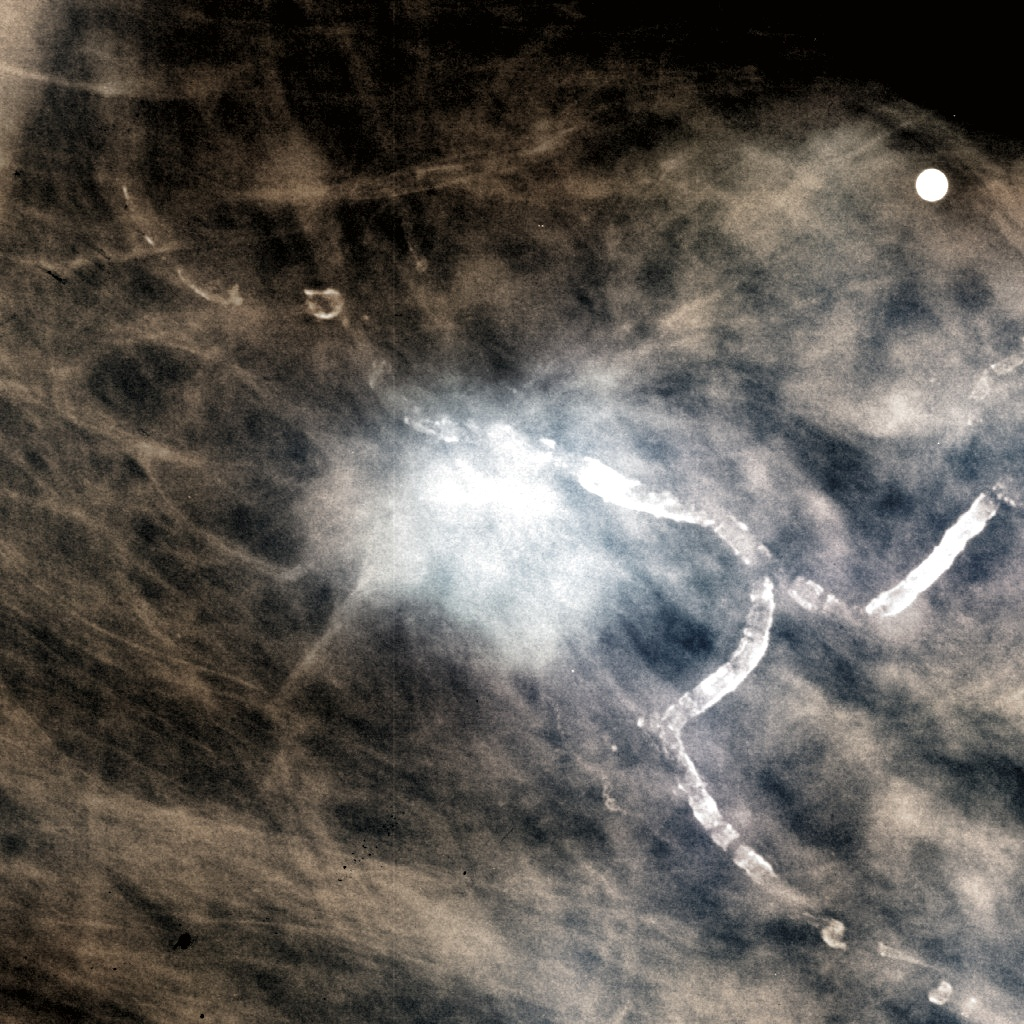tumor: (197, 265, 827, 759)
